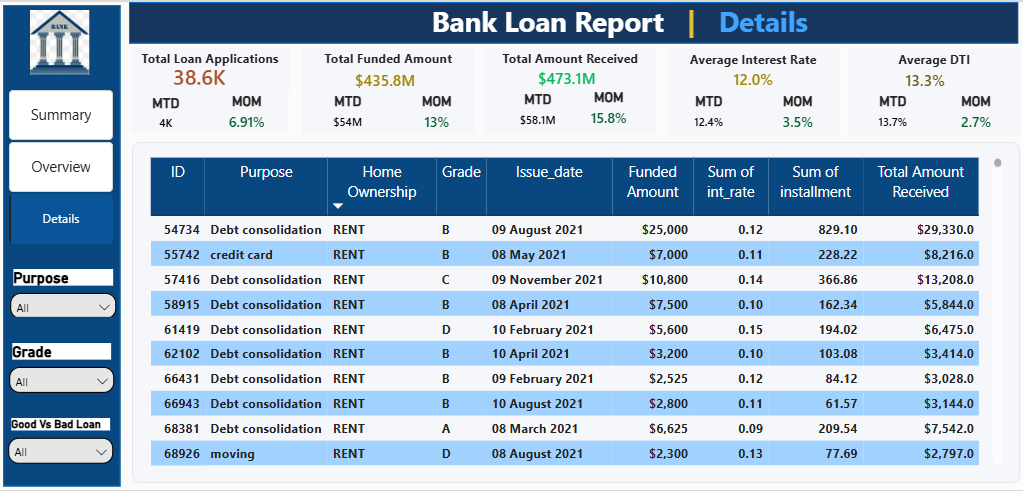

Layout of this report page (visuals, bound fields, positions):
{"tool":"powerbi","page":{"name":"Details","canvas":[1000,470],"ordinal":2},"visuals":[{"type":"shape","box":[129.1,0,855.5,40],"z":0},{"type":"textbox","box":[131,43,152,82],"z":0,"group":"g1"},{"type":"textbox","box":[295,43,166,84],"z":0,"group":"g3"},{"type":"textbox","box":[470,43,166,84],"z":0,"group":"g2"},{"type":"textbox","box":[646,44,166,84],"z":0,"group":"g4"},{"type":"textbox","box":[820,44,166,84],"z":0,"group":"g5"},{"type":"shape","box":[7.2,3.1,113,463],"z":1000},{"type":"cardVisual","fields":{"Data":["Bank_Loan_Data.Total_Loan_Applications"]},"box":[150.9,60.9,91.2,18.9],"z":1000,"group":"g1"},{"type":"textbox","box":[382,0,438,39],"z":2000},{"type":"group","id":"g1","title":"Group 1","box":[131,43,152,82],"z":3000},{"type":"group","id":"g2","title":"Group 1","box":[470,43,166,84],"z":4000},{"type":"cardVisual","title":"MOM","fields":{"Data":["Bank_Loan_Data.MOM Funded Amount"]},"box":[371,88,72,35],"z":5000},{"type":"cardVisual","title":"MTD","fields":{"Data":["Bank_Loan_Data.MTD Amount Received"]},"box":[479,87,86,35],"z":6000},{"type":"cardVisual","fields":{"Data":["Bank_Loan_Data.Total Funded Amount"]},"box":[325,62,95,24],"z":7000},{"type":"cardVisual","title":"MOM","fields":{"Data":["Bank_Loan_Data.MOM Amount Received"]},"box":[547,85,86,35],"z":8000},{"type":"group","id":"g3","title":"Group 1","box":[295,43,166,84],"z":9000},{"type":"group","id":"g4","title":"Group 1","box":[646,44,166,84],"z":10000},{"type":"group","id":"g5","title":"Group 1","box":[820,44,166,84],"z":11000},{"type":"cardVisual","title":"MTD","fields":{"Data":["Bank_Loan_Data.MTD Funded Amount"]},"box":[296,88,86,35],"z":12000},{"type":"cardVisual","title":"MTD","fields":{"Data":["Bank_Loan_Data.MTD Average Rate"]},"box":[643,88,86,35],"z":13000},{"type":"cardVisual","title":"MTD","fields":{"Data":["Bank_Loan_Data.MTD DTI"]},"box":[820,88,86,35],"z":14000},{"type":"cardVisual","title":"MOM","fields":{"Data":["Bank_Loan_Data.MOM Avg Int Rate"]},"box":[729,88,86,35],"z":15000},{"type":"cardVisual","title":"MOM","fields":{"Data":["Bank_Loan_Data.MOM Funded Amount"]},"box":[382,88,86,35],"z":16000},{"type":"cardVisual","title":"MOM","fields":{"Data":["Bank_Loan_Data.MOM DTI"]},"box":[906,88,75,35],"z":17000},{"type":"cardVisual","fields":{"Data":["Bank_Loan_Data.Avg DTI"]},"box":[839,62,110,25],"z":18000},{"type":"cardVisual","fields":{"Data":["Bank_Loan_Data.Avg Interest Rate"]},"box":[674,61,110,25],"z":19000},{"type":"cardVisual","fields":{"Data":["Bank_Loan_Data.Total Amount Received"]},"box":[490,60,119,25],"z":20000},{"type":"slicer","fields":{"Values":["Bank_Loan_Data.Good Vs Bad Loan"]},"box":[7.2,400,111,51],"z":21000},{"type":"slicer","fields":{"Values":["Bank_Loan_Data.purpose"]},"box":[9.3,256.7,112,46],"z":22000},{"type":"slicer","fields":{"Values":["Bank_Loan_Data.grade"]},"box":[8.2,327.8,111,48],"z":23000},{"type":"cardVisual","title":"MTD","fields":{"Data":["Bank_Loan_Data.MTD_Loan_Applications"]},"box":[132,90,65,32],"z":24000},{"type":"cardVisual","title":"MOM","fields":{"Data":["Bank_Loan_Data.MOM Loan Applications"]},"box":[199,88,86,35],"z":25000},{"type":"image","box":[34,8,57,62],"z":26000},{"type":"pageNavigator","box":[13.4,84.5,100,150.5],"z":27000},{"type":"cardVisual","fields":{"Data":["Bank_Loan_Data.Total Funded Amount"]},"box":[320,61,110,25],"z":27009,"group":"g3"},{"type":"tableEx","fields":{"Values":["Bank_Loan_Data.id","Bank_Loan_Data.purpose","Bank_Loan_Data.home_ownership","Bank_Loan_Data.grade","Bank_Loan_Data.issue_date","Bank_Loan_Data.Total Funded Amount","Sum(Bank_Loan_Data.int_rate)","Sum(Bank_Loan_Data.installment)","Bank_Loan_Data.Total Amount Received"]},"box":[132,135.1,853.6,327.8],"z":28000}]}

Visuals, with their boxes in screenshot pixels (x1, y1, x2, y2), scaled from the page's 1000x470 canvas onto the 1023x491 screenshot:
shape: <region>132, 0, 1007, 42</region>
textbox: <region>134, 45, 290, 131</region>
textbox: <region>302, 45, 472, 133</region>
textbox: <region>481, 45, 651, 133</region>
textbox: <region>661, 46, 831, 134</region>
textbox: <region>839, 46, 1009, 134</region>
shape: <region>7, 3, 123, 487</region>
cardVisual - Bank_Loan_Data.Total_Loan_Applications: <region>154, 64, 248, 83</region>
textbox: <region>391, 0, 839, 41</region>
"Group 1" group: <region>134, 45, 290, 131</region>
"Group 1" group: <region>481, 45, 651, 133</region>
"MOM" cardVisual: <region>380, 92, 453, 128</region>
"MTD" cardVisual: <region>490, 91, 578, 127</region>
cardVisual - Bank_Loan_Data.Total Funded Amount: <region>332, 65, 430, 90</region>
"MOM" cardVisual: <region>560, 89, 648, 125</region>
"Group 1" group: <region>302, 45, 472, 133</region>
"Group 1" group: <region>661, 46, 831, 134</region>
"Group 1" group: <region>839, 46, 1009, 134</region>
"MTD" cardVisual: <region>303, 92, 391, 128</region>
"MTD" cardVisual: <region>658, 92, 746, 128</region>
"MTD" cardVisual: <region>839, 92, 927, 128</region>
"MOM" cardVisual: <region>746, 92, 834, 128</region>
"MOM" cardVisual: <region>391, 92, 479, 128</region>
"MOM" cardVisual: <region>927, 92, 1004, 128</region>
cardVisual - Bank_Loan_Data.Avg DTI: <region>858, 65, 971, 91</region>
cardVisual - Bank_Loan_Data.Avg Interest Rate: <region>690, 64, 802, 90</region>
cardVisual - Bank_Loan_Data.Total Amount Received: <region>501, 63, 623, 89</region>
slicer - Bank_Loan_Data.Good Vs Bad Loan: <region>7, 418, 121, 471</region>
slicer - Bank_Loan_Data.purpose: <region>10, 268, 124, 316</region>
slicer - Bank_Loan_Data.grade: <region>8, 342, 122, 393</region>
"MTD" cardVisual: <region>135, 94, 202, 127</region>
"MOM" cardVisual: <region>204, 92, 292, 128</region>
image: <region>35, 8, 93, 73</region>
pageNavigator: <region>14, 88, 116, 245</region>
cardVisual - Bank_Loan_Data.Total Funded Amount: <region>327, 64, 440, 90</region>
tableEx - Bank_Loan_Data.id x Bank_Loan_Data.purpose: <region>135, 141, 1008, 484</region>
